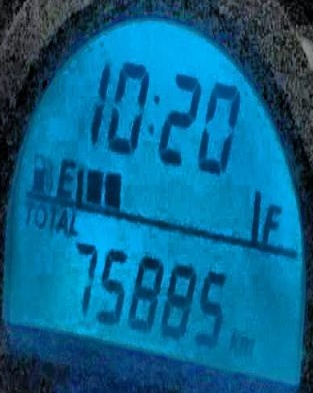0: (200, 76, 240, 174), (109, 58, 148, 156)
1: (88, 58, 110, 147)
2: (159, 69, 199, 171)
5: (195, 263, 226, 352), (97, 243, 125, 327)
7: (73, 238, 96, 316)
8: (131, 245, 160, 345), (163, 260, 197, 345)
X: (55, 154, 75, 196), (261, 199, 280, 239), (148, 89, 159, 136), (33, 202, 45, 230), (67, 207, 78, 235), (240, 334, 253, 356), (56, 206, 66, 234), (228, 329, 239, 354), (23, 199, 33, 225), (47, 203, 56, 231)
